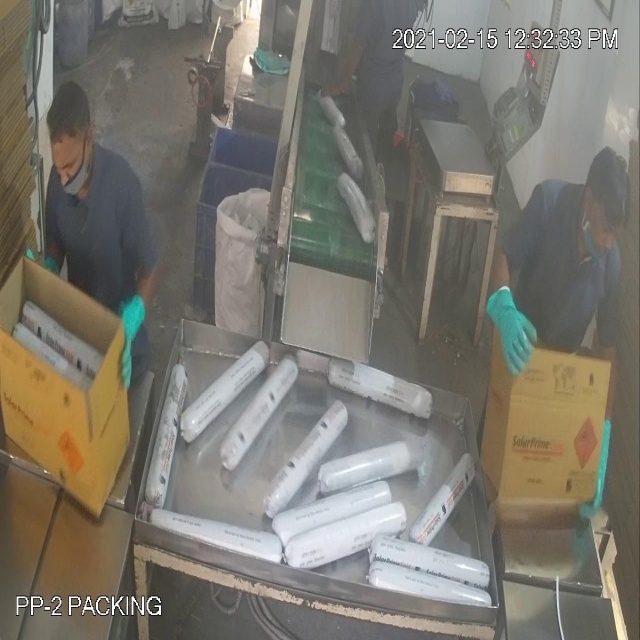Guantes: (484, 274, 548, 379), (108, 282, 149, 393)
Sin_guantes: (322, 27, 376, 102)
